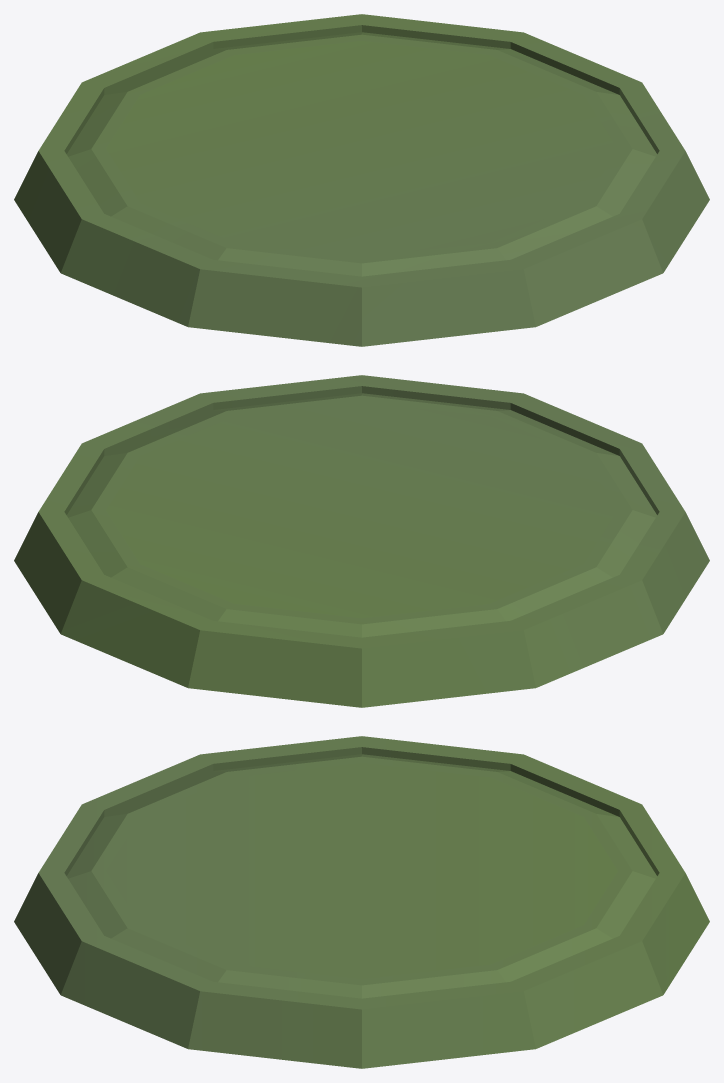
Rendered from Luke_01.fbx.
3 renders of one model, top to bottom at view 1: azimuth 30°, elevation 25°; view 2: azimuth 150°, elevation 25°; view 3: azimuth 270°, elevation 25°, orthographic.
Visible parts, largest first — view 1: Luke_01; view 2: Luke_01; view 3: Luke_01.
Boxes of the visible parts, <box> form: Luke_01: <box>14,14,709,346</box>; Luke_01: <box>14,375,709,707</box>; Luke_01: <box>14,736,709,1068</box>.
Bounding box in the file's own units: 0.8255 × 0.0664 × 0.8255.
